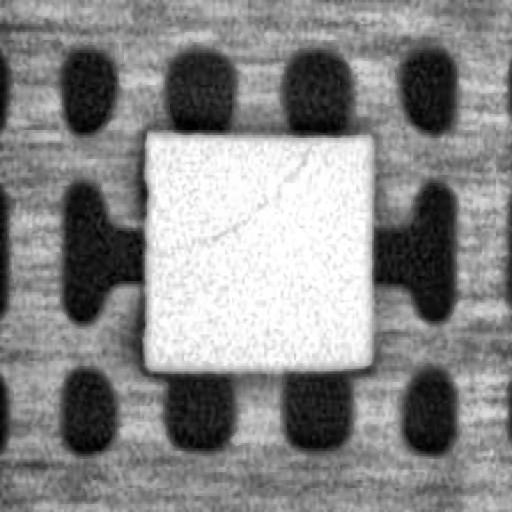DIE_CRACK: (200, 146, 308, 244)
